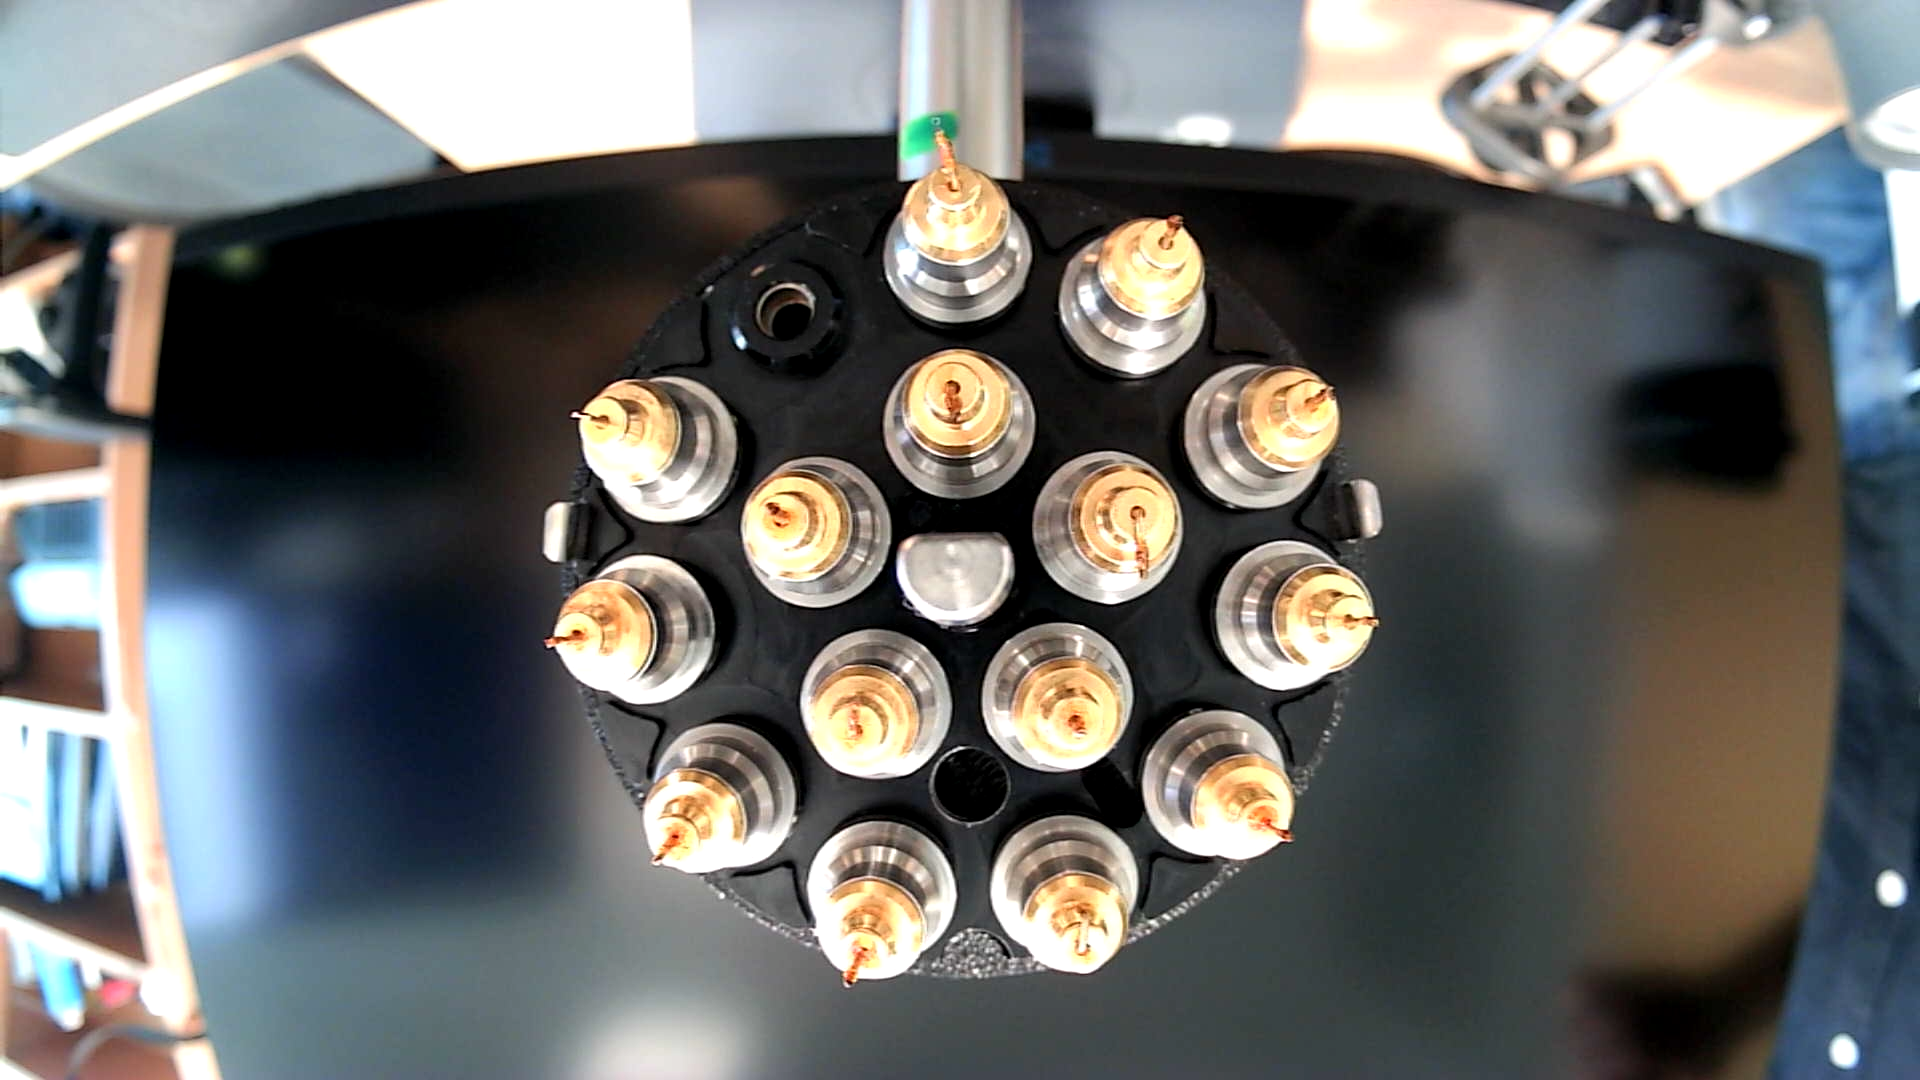bent: (880, 121, 1030, 328), (988, 814, 1146, 977), (877, 344, 1038, 502), (1030, 446, 1184, 609), (796, 626, 955, 785)
empty: (727, 252, 853, 378)
hole: (928, 745, 1011, 828)
pin: (535, 553, 720, 711), (806, 812, 963, 992), (1203, 533, 1374, 690), (568, 375, 741, 530), (1055, 204, 1207, 377), (1135, 705, 1296, 866), (642, 717, 798, 878), (978, 620, 1135, 775), (1180, 357, 1338, 512), (736, 454, 891, 609)
rod: (894, 527, 1015, 636)
